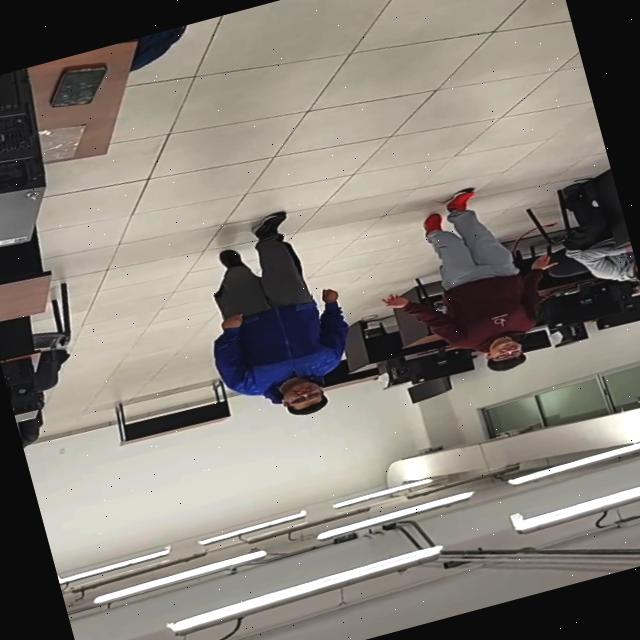Persona: (359, 166, 584, 399), (175, 199, 354, 438)
